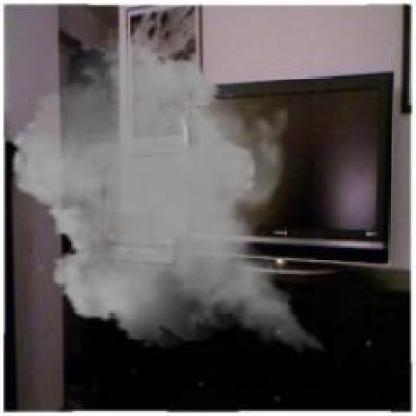Smoke: (2, 21, 343, 360)
